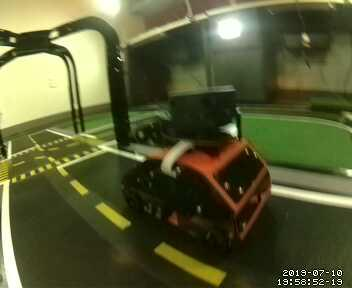pheeno: (119, 87, 273, 257)
